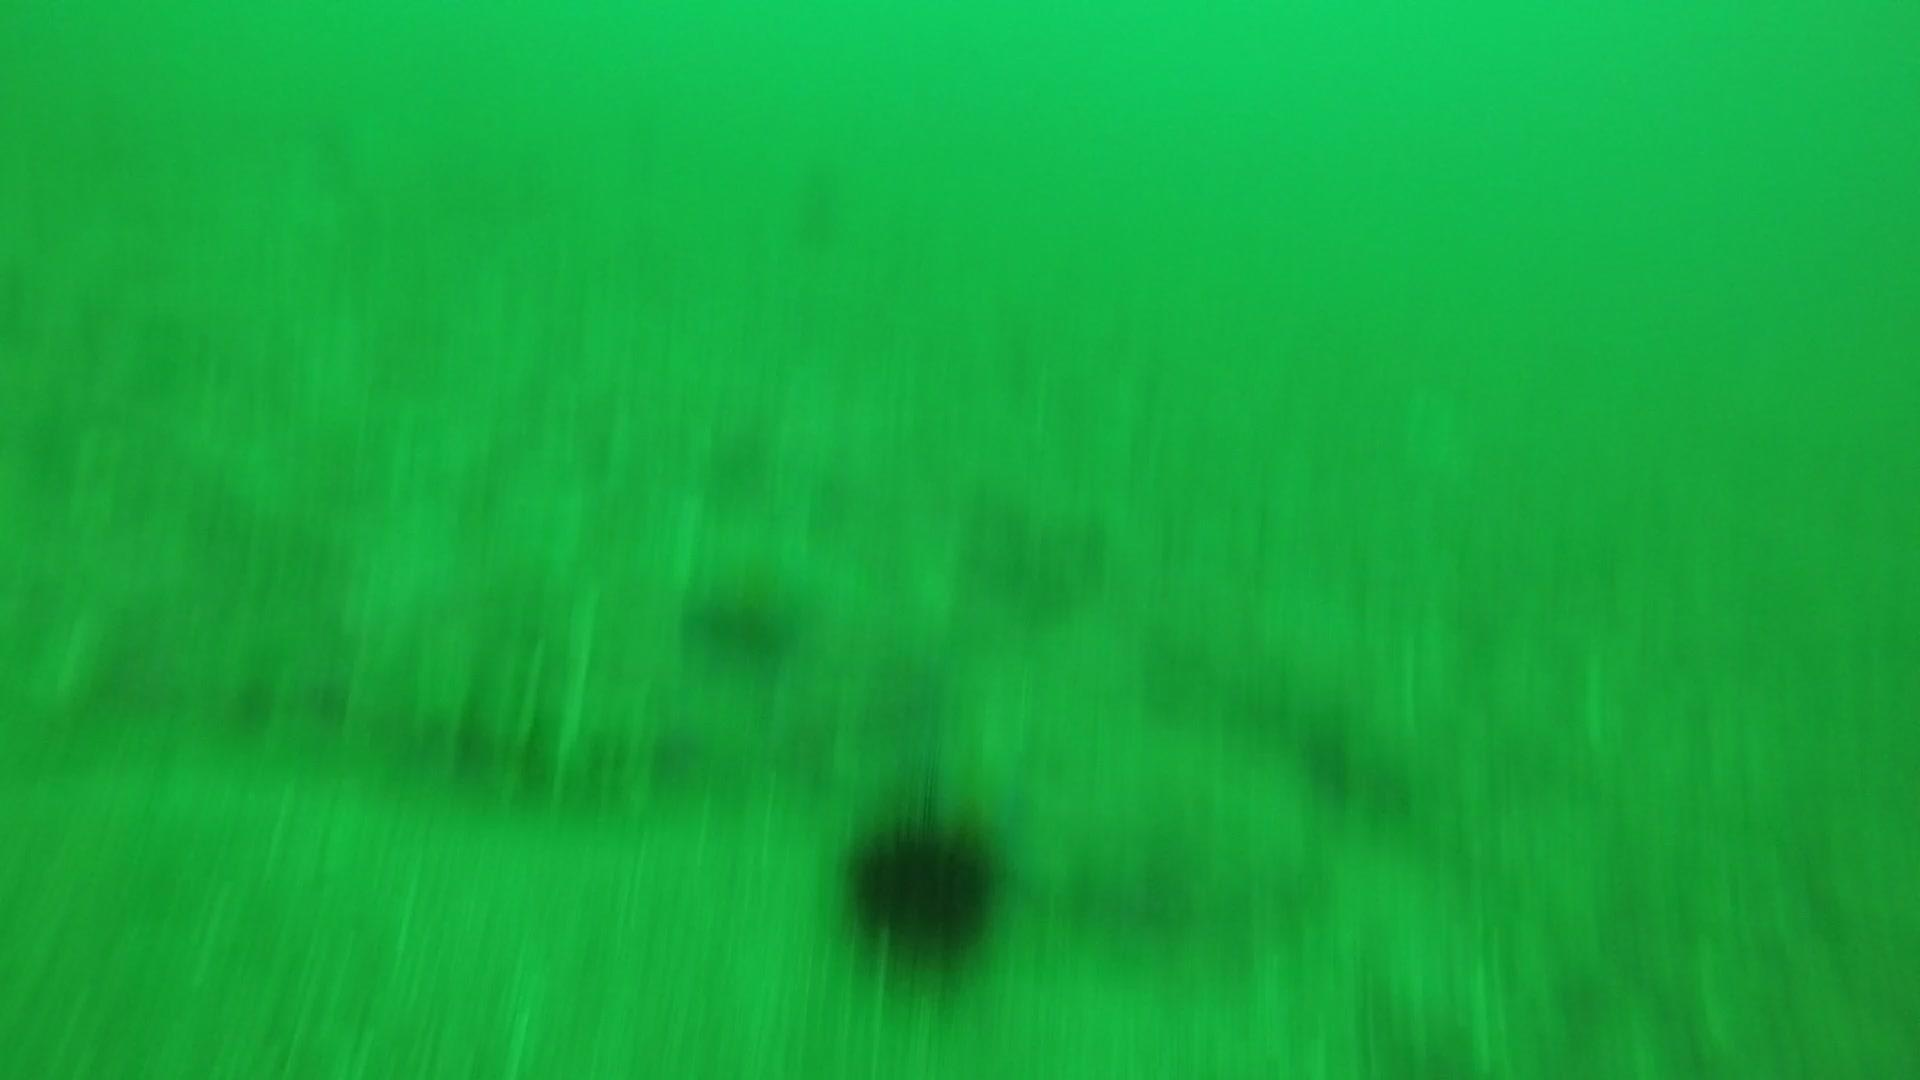echinus: (832, 795, 1011, 971), (679, 571, 806, 669)
